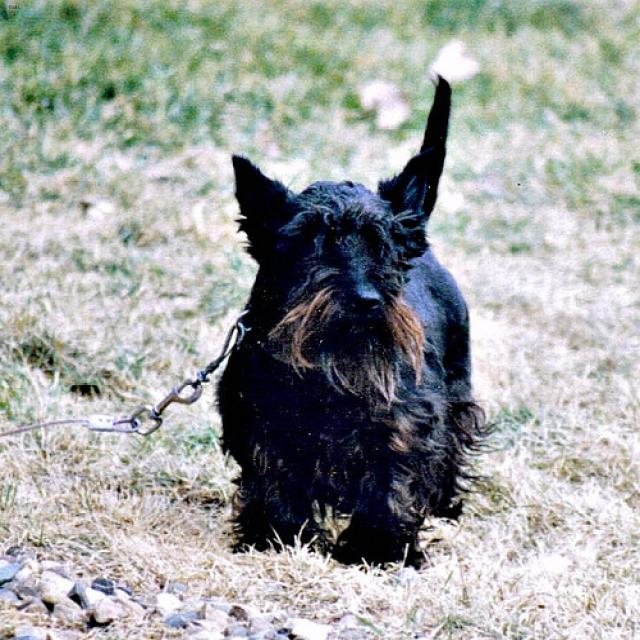dog-scottish_terrier: (204, 62, 503, 579)
